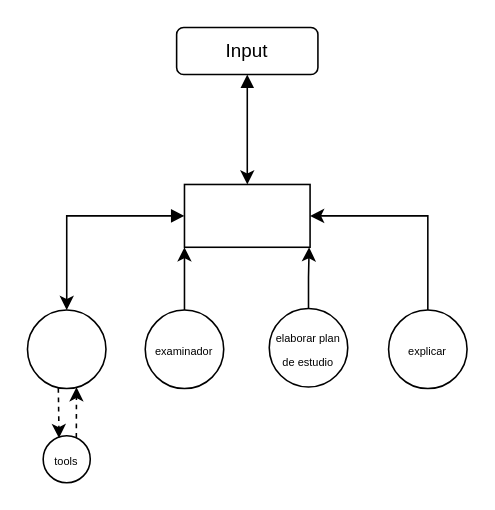
This 495x510 diagram has some shape labels left out. The shapes that lost their labels are listed below. From the top down, each one's centre as x and y in pixels, then its label:
the point at 246,215: orquestador
the point at 66,349: preguntas
